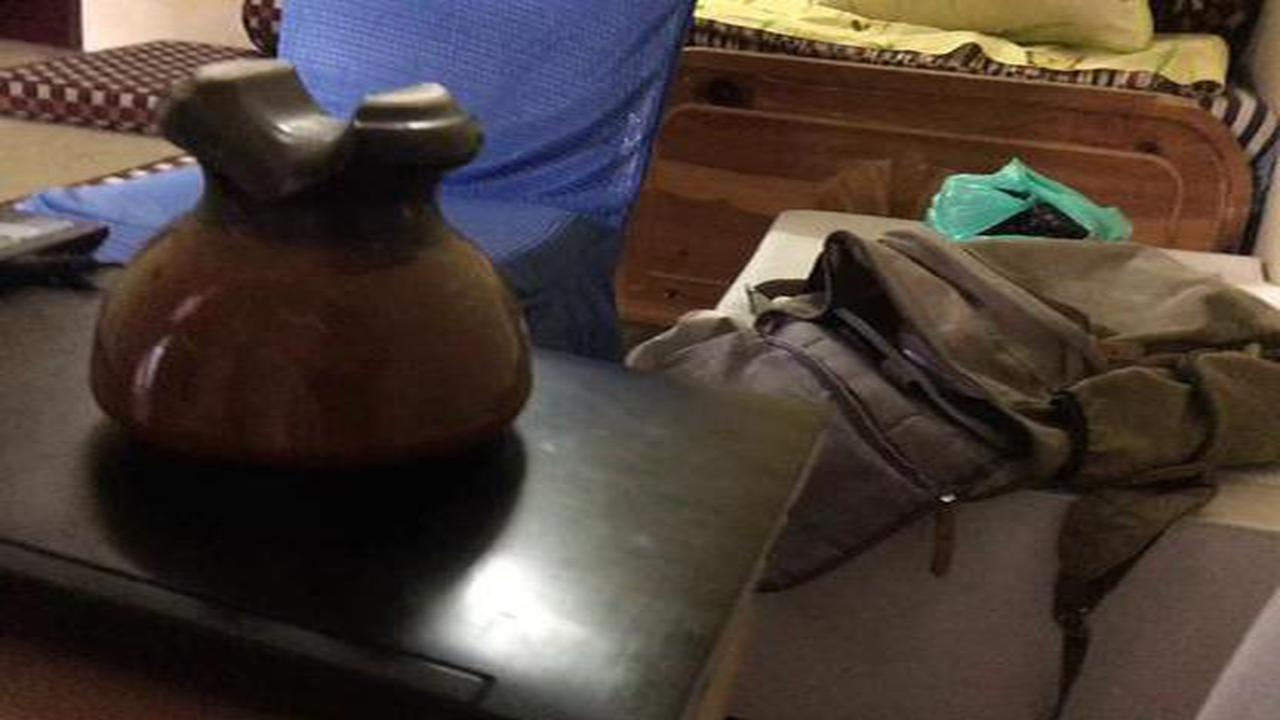insulator_pin: (81, 46, 551, 499)
